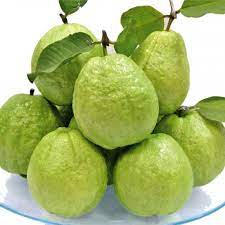guava: (71, 53, 158, 147), (29, 127, 109, 218), (115, 134, 193, 218)
